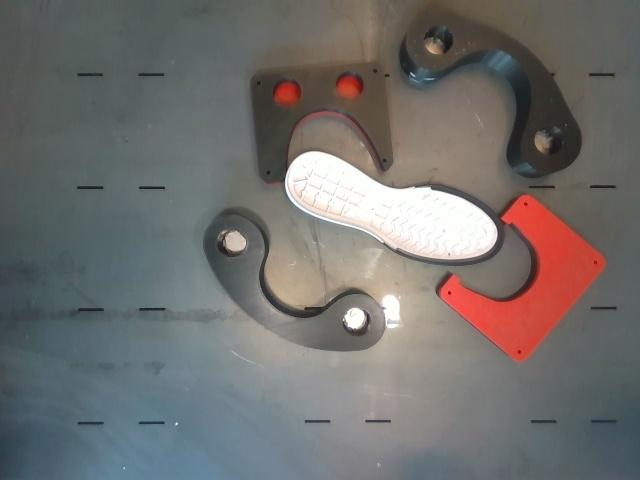shoes: (288, 153, 503, 264)
